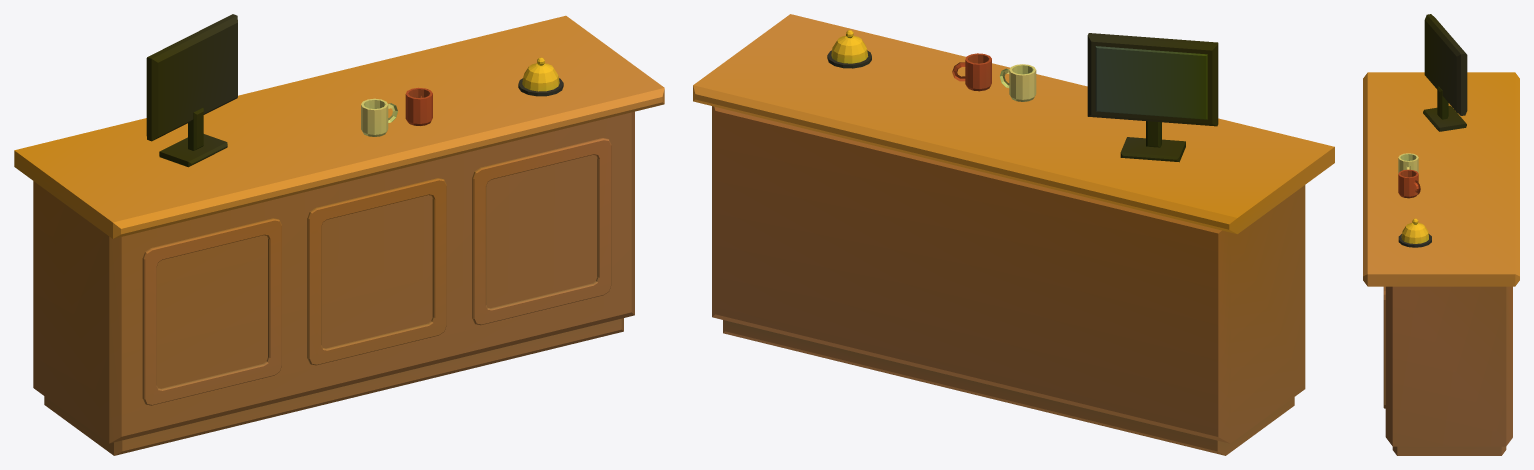
Rendered from Prop_CoffeeCounter.glb.
3 renders of one model, left to right at view 1: azimuth 30°, elevation 25°; view 2: azimuth 150°, elevation 25°; view 3: azimuth 270°, elevation 25°, orthographic. The views are drawn at different scales.
Visible parts, largest first — view 1: Prop_CoffeeCounter; view 2: Prop_CoffeeCounter; view 3: Prop_CoffeeCounter.
Boxes of the visible parts, box(x1,y1,x2,y2) form: Prop_CoffeeCounter: box(14, 14, 664, 455); Prop_CoffeeCounter: box(693, 14, 1334, 455); Prop_CoffeeCounter: box(1363, 14, 1519, 455).
Size of the model in its own units: 2.1 by 1.34 by 0.69.
